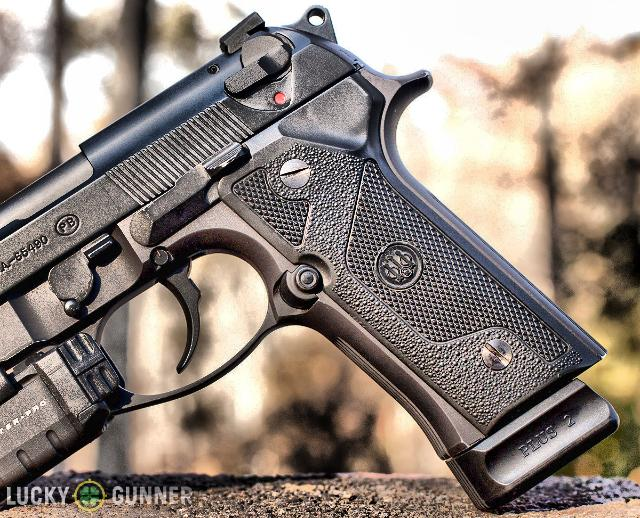pistol: (1, 8, 620, 500)
